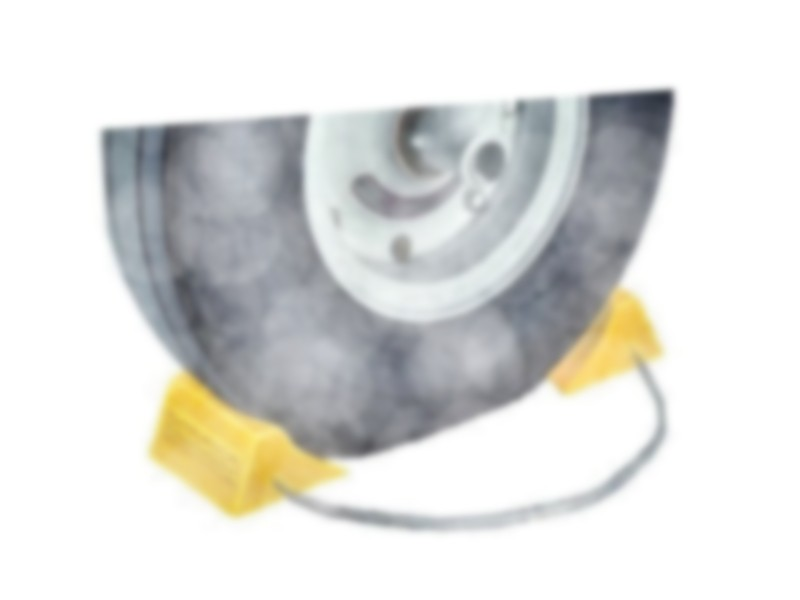chock: (142, 358, 352, 524), (521, 271, 667, 398)
wheel: (97, 92, 700, 478)
